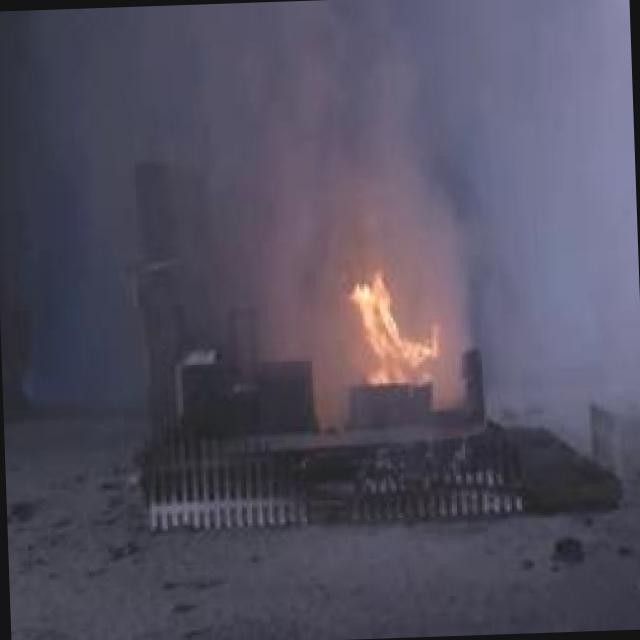fire: (320, 254, 470, 429)
smoke: (0, 0, 637, 261)
